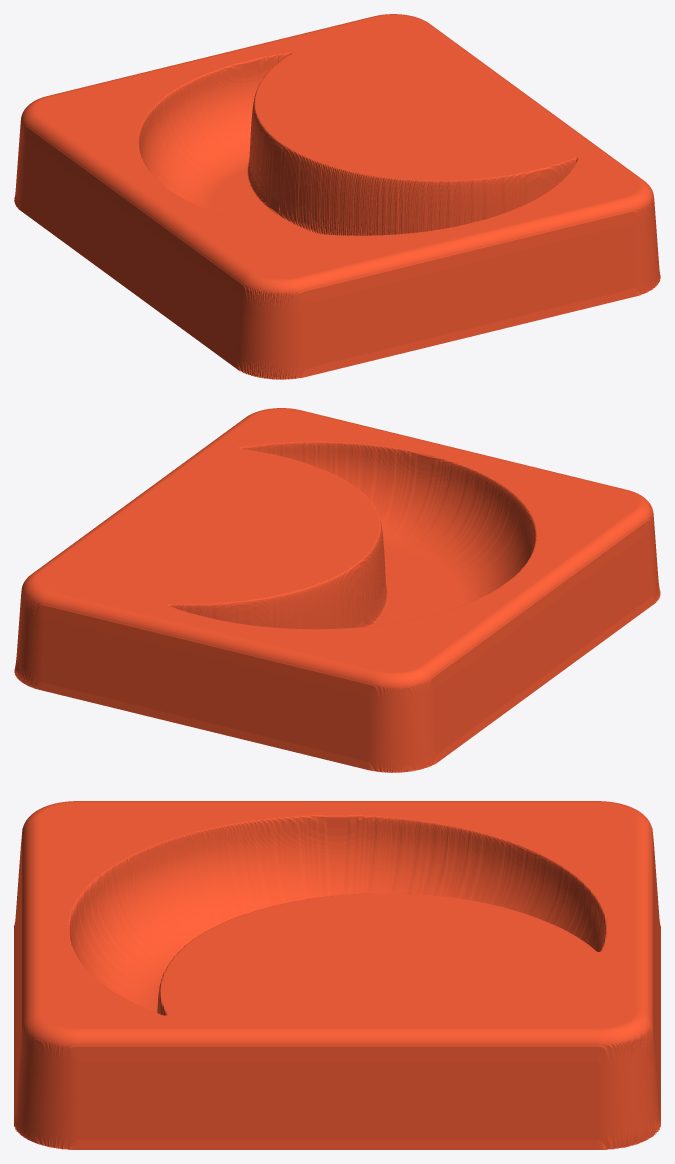
File: mold.glb
3 renders of one model, top to bottom at view 1: azimuth 30°, elevation 25°; view 2: azimuth 150°, elevation 25°; view 3: azimuth 270°, elevation 25°, orthographic. The views are drawn at different scales.
Parts seen in each view (by area): view 1: geometry_0; view 2: geometry_0; view 3: geometry_0.
Boxes of the visible parts, <box> form: geometry_0: <box>14,14,660,379</box>; geometry_0: <box>14,408,660,772</box>; geometry_0: <box>14,801,660,1149</box>.
Bounding box in the file's own units: 0.0834 × 0.0175 × 0.0924.
